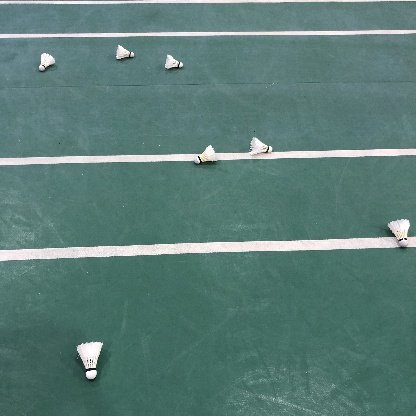ball_single: (77, 342, 103, 379), (388, 219, 410, 247), (194, 145, 217, 164), (249, 137, 272, 155), (39, 53, 55, 71), (164, 54, 183, 69), (116, 45, 134, 59)
